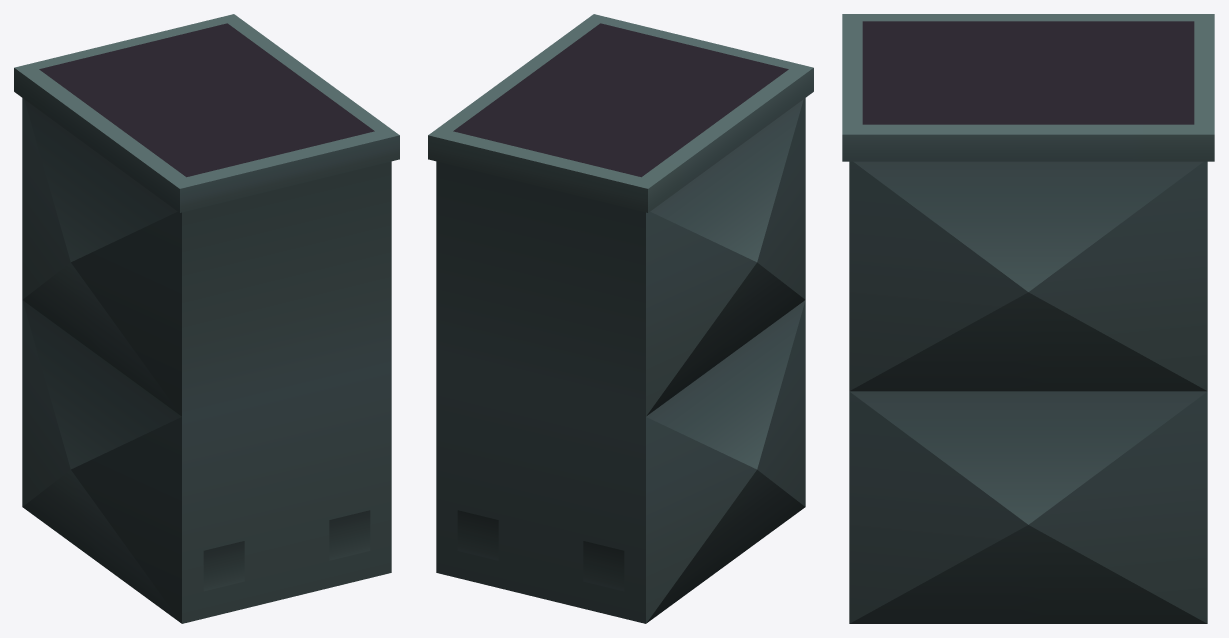
Rendered from Air_Vent_3A.fbx.
3 views of the same model, side by side, from view 1: azimuth 30°, elevation 25°; view 2: azimuth 150°, elevation 25°; view 3: azimuth 270°, elevation 25° (orthographic). The views are drawn at different scales.
Visible parts, largest first — view 1: Air_Vent_3A; view 2: Air_Vent_3A; view 3: Air_Vent_3A.
Part boxes in pixels (x1=…): Air_Vent_3A: x1=14, y1=14, x2=399, y2=623; Air_Vent_3A: x1=428, y1=14, x2=813, y2=623; Air_Vent_3A: x1=842, y1=14, x2=1214, y2=623.
Bounding box in the file's own units: 130 × 201 × 137.
